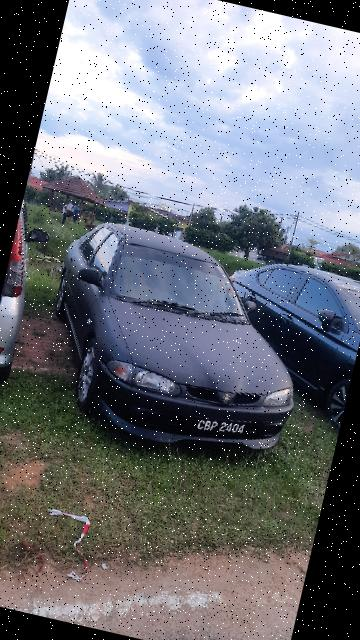License_Plate: (184, 405, 266, 448)
car: (23, 209, 337, 484)
